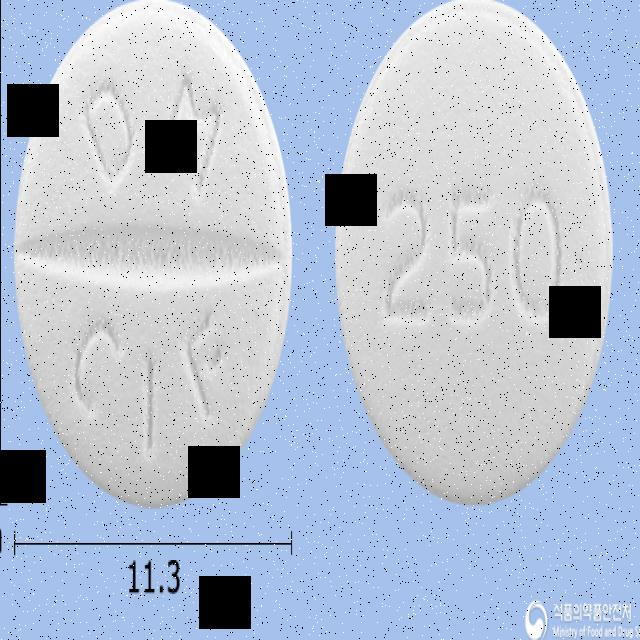Cifxacin: (328, 0, 617, 517), (10, 0, 297, 514)
